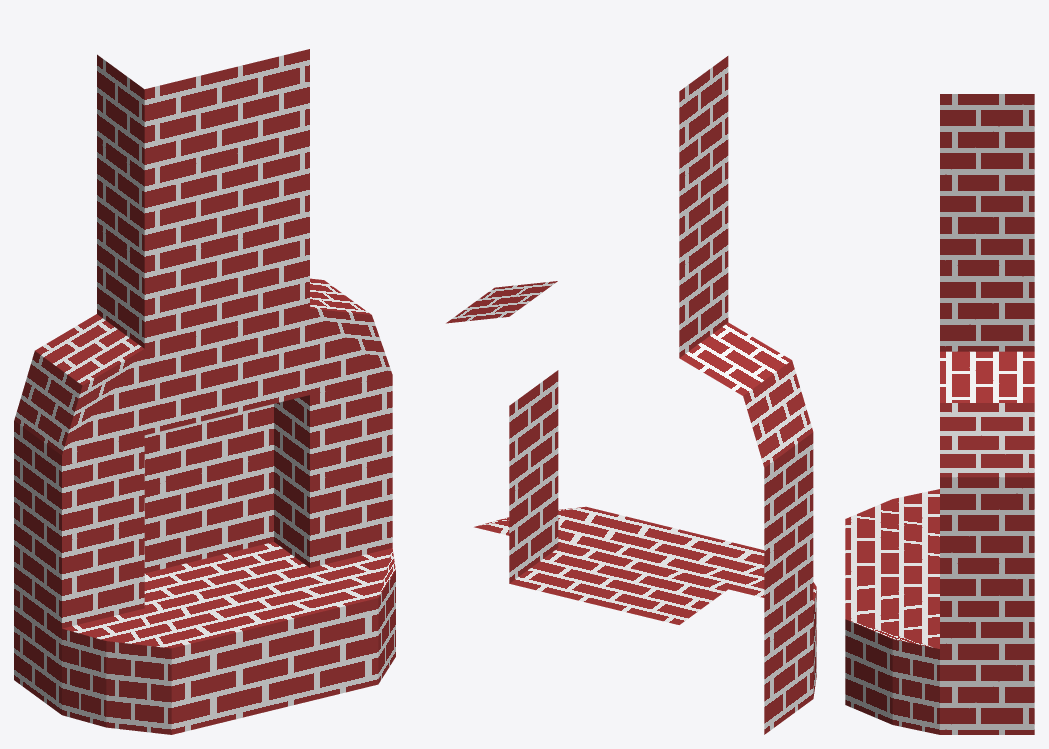
File: Chimney.gltf
3 views of the same model, side by side, from view 1: azimuth 30°, elevation 25°; view 2: azimuth 150°, elevation 25°; view 3: azimuth 270°, elevation 25° (orthographic). The views are drawn at different scales.
Visible parts, largest first — view 1: default; view 2: default; view 3: default.
Boxes of the visible parts, left/top/right/bottom form: default: left=14, top=49, right=395, bottom=734; default: left=446, top=56, right=816, bottom=734; default: left=845, top=94, right=1034, bottom=734.
Size of the model in its own units: 1.2 by 2.1 by 0.6.
Materials: 1 (1 with a texture image).
